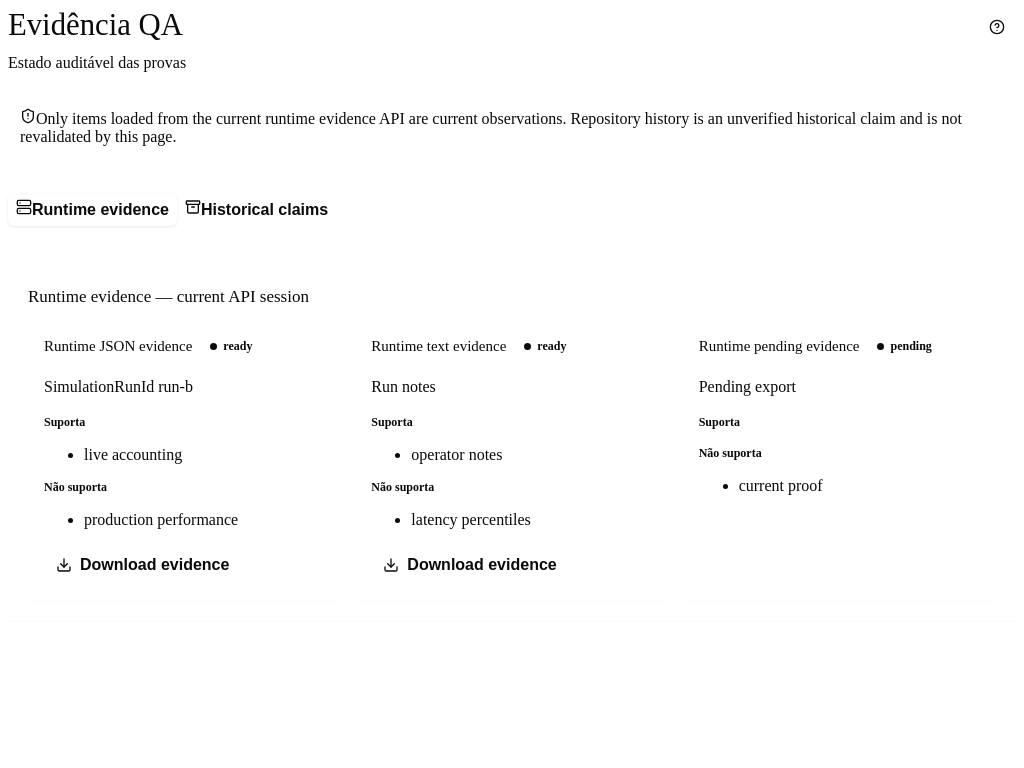
QualityEvidencePage › separates current runtime evidence from historical repository claims
The image size is (1024, 768).
Check: the heading "Evidência QA" is shown, box [8,8,183,42]
Check: the message shows "Only items loaded from the current runtime evidence API", box [20,110,962,145]
What coordinates should you click on to do the following:
click the tab "Historical claims"
I would click on:
 (256, 210)
Its box is [177,194,336,226].
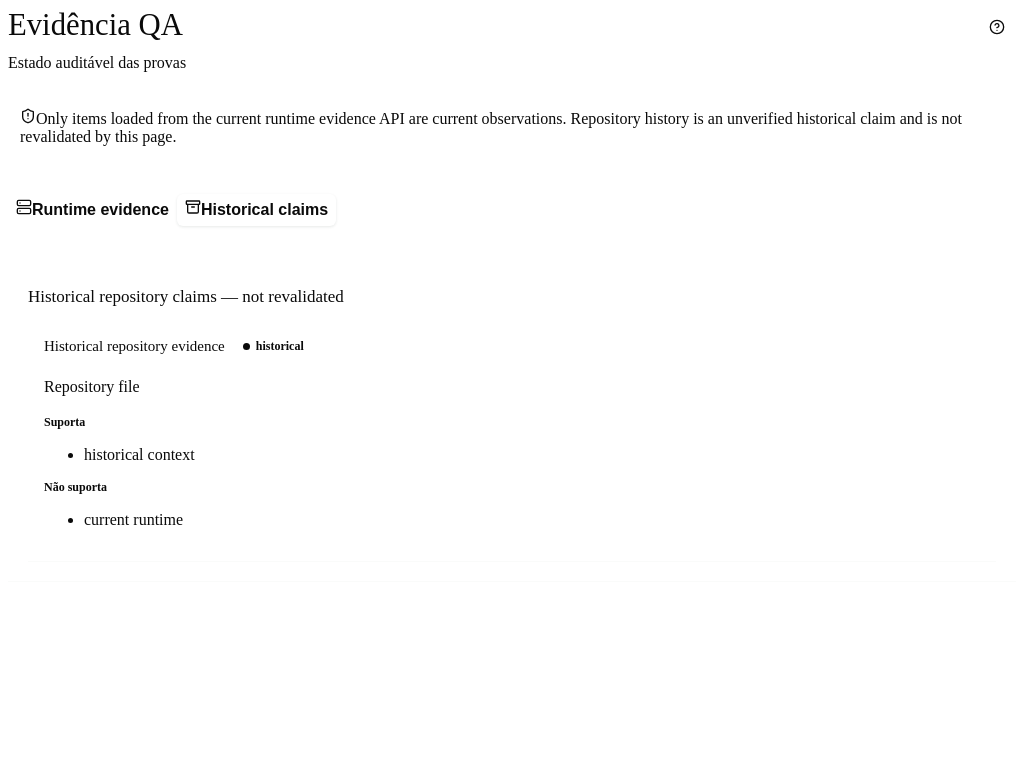
Check: the heading "Historical repository claims — not revalidated" is shown, box [28,287,344,306]
Check: the heading "Historical repository evidence" is shown, box [44,335,225,357]
